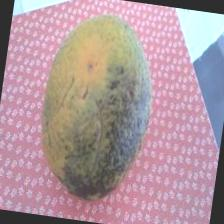Orange Rotten: (23, 0, 167, 210)
